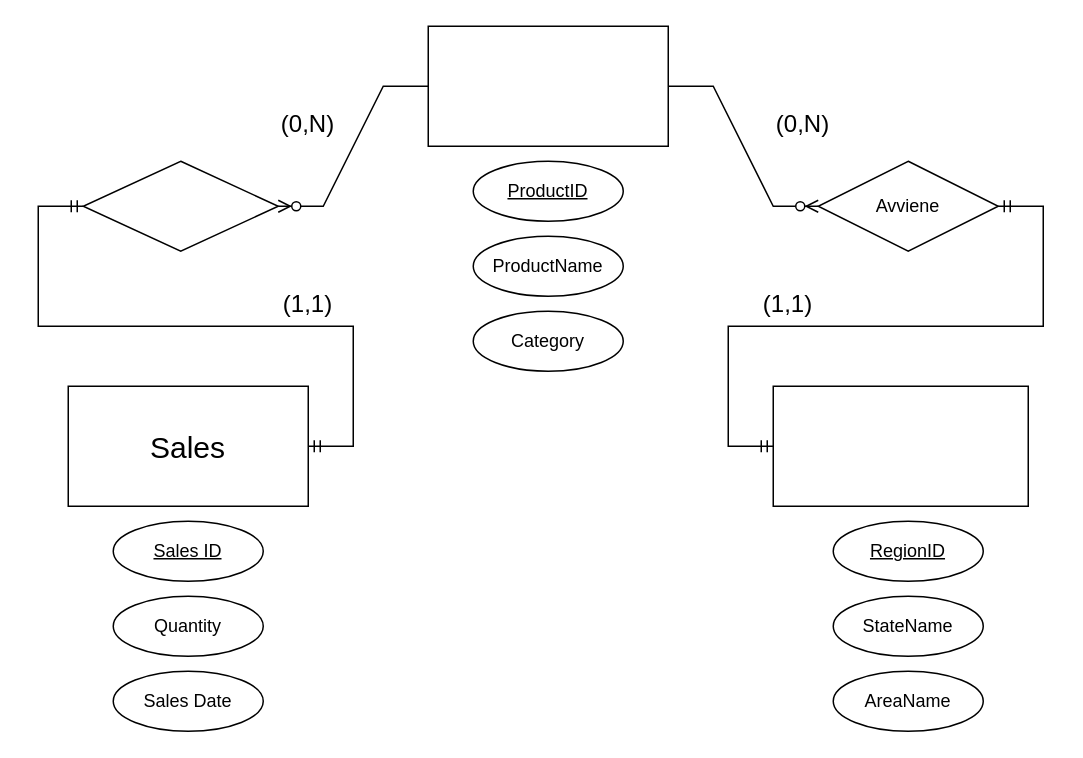
This 1083x758 diagram has some shape labels left out. Each missing label, with the centre of its shape:
Genera: (x=180, y=205)
Product: (x=547, y=85)
Region: (x=900, y=445)
